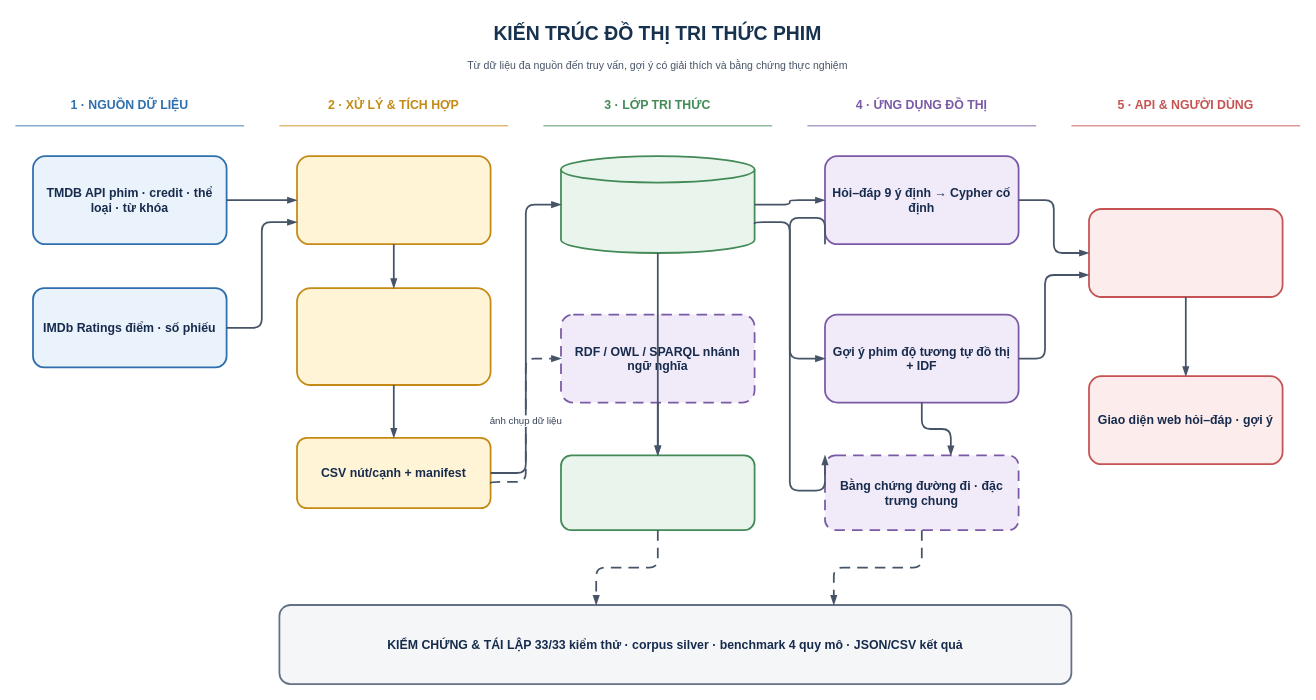
The diagram is 1316 pixels wide and 700 high, and some of its shapes have lost their labels. Here are the shapes that lost their labels. From the top down, the centre of each, then its label:
At (393,200): "Bộ nhớ đệm bất biến JSON · GZIP · checksum".
At (657,204): "Neo4j 5 Đồ thị thuộc tính".
At (1185,252): "FastAPI /ask · /recommend · /stats".
At (393,336): "Làm sạch & chuẩn hóa ID ổn định · phân giải thực thể".
At (657,492): "Kiểm tra chất lượng 0 vi phạm cấu trúc".
